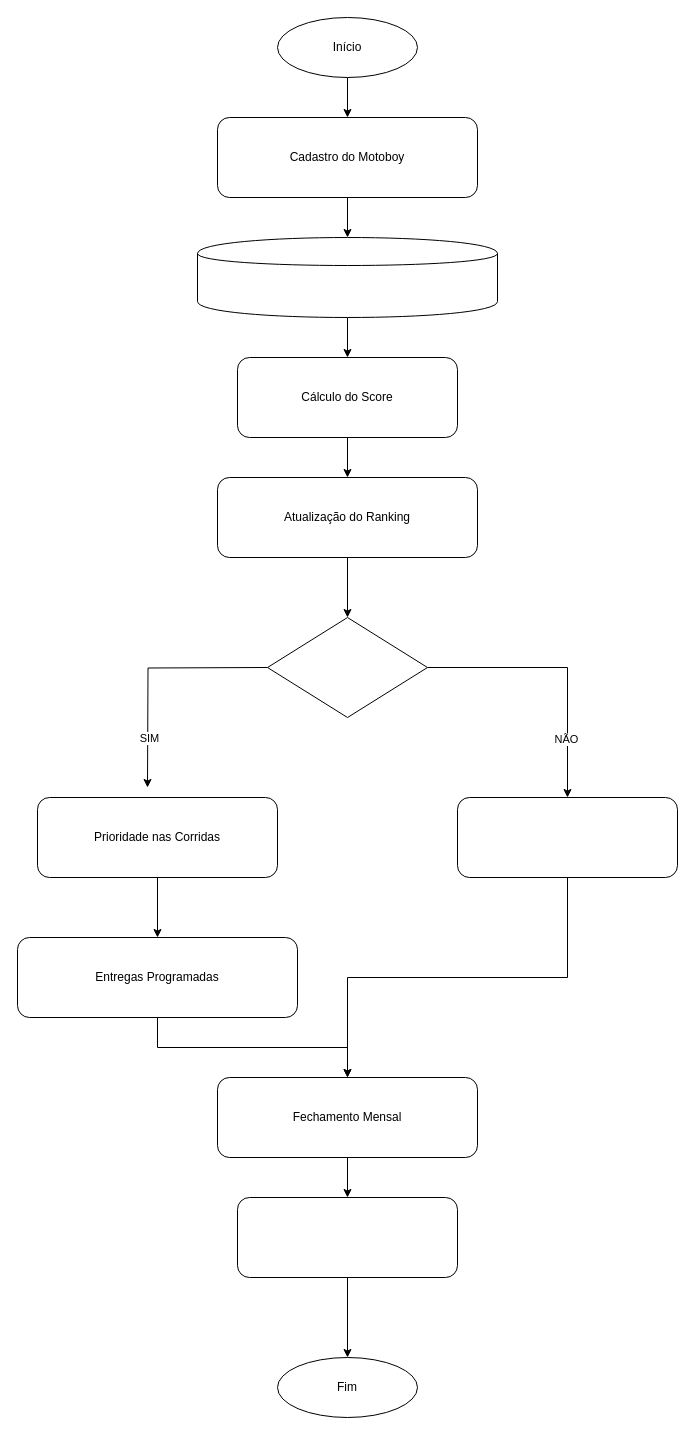
The diagram is 695 pixels wide and 1435 high, and some of its shapes have lost their labels. Here are the shapes that lost their labels. From the top down, the centre of each, then its label:
point (347, 277): Coleta Automática de Dados
point (347, 667): Score Alto?
point (567, 837): Fluxo Padrão
point (347, 1237): Bonificações
